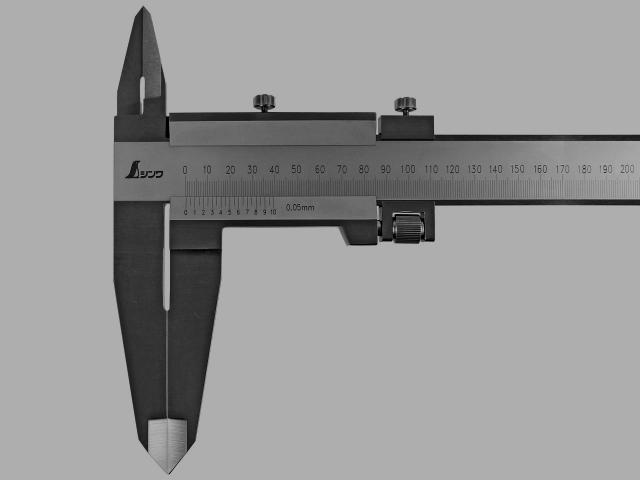Calipers: (114, 8, 640, 470)
